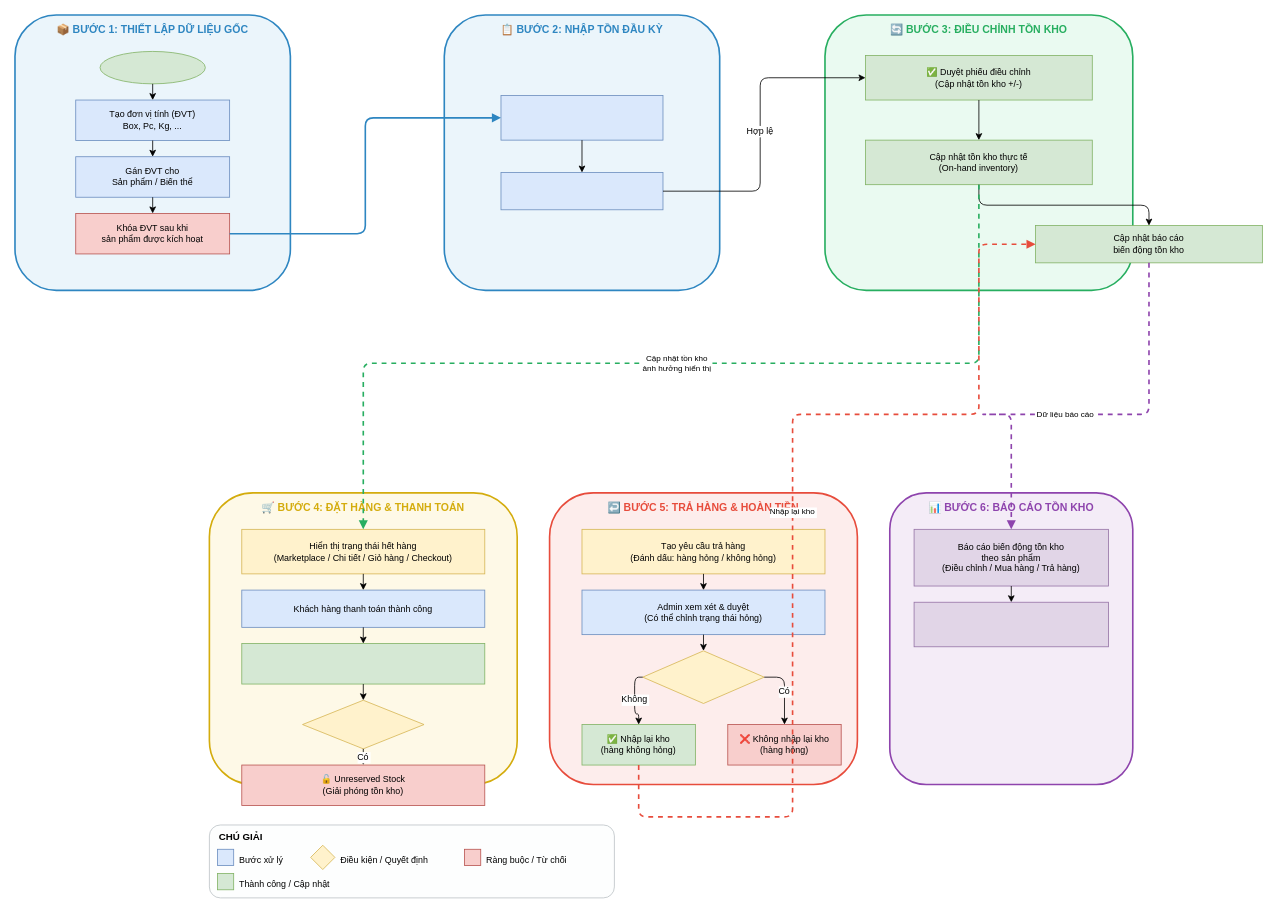
This 1277x912 diagram has some shape labels left out. The shapes that lost their labels are listed below. From the top down, each one's centre as x and y in pixels, then its label:
At (152,67): "BẮT ĐẦU".
At (581,117): "Tạo phiếu điều chỉnh tồn kho (Nhập thủ công / Import file)".
At (581,191): "Gửi duyệt (Submit)".
At (1010,624): "Báo cáo tổng hợp tồn kho Lọc: Danh mục / Đối tác / Ngày".
At (363,663): "🔒 Reserved Stock (Khóa tồn kho chờ giao)".
At (703,676): "Hàng bị hỏng?".
At (363,724): "Đơn hàng bị hủy?".
